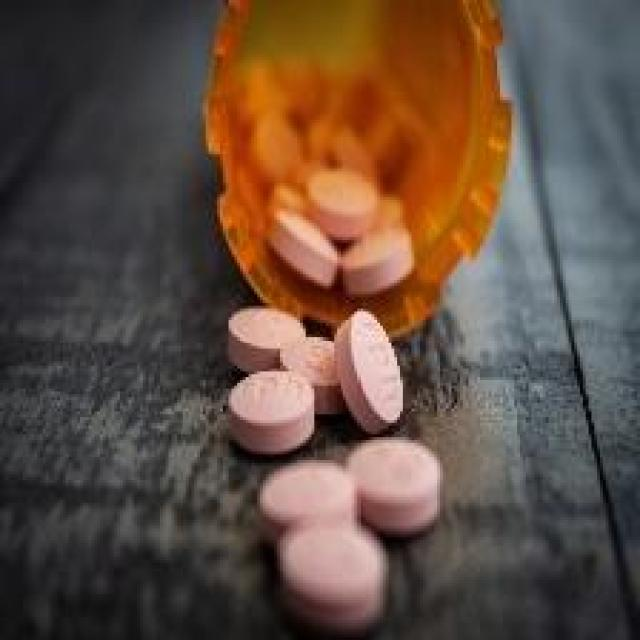Medicine: (188, 10, 480, 640)
